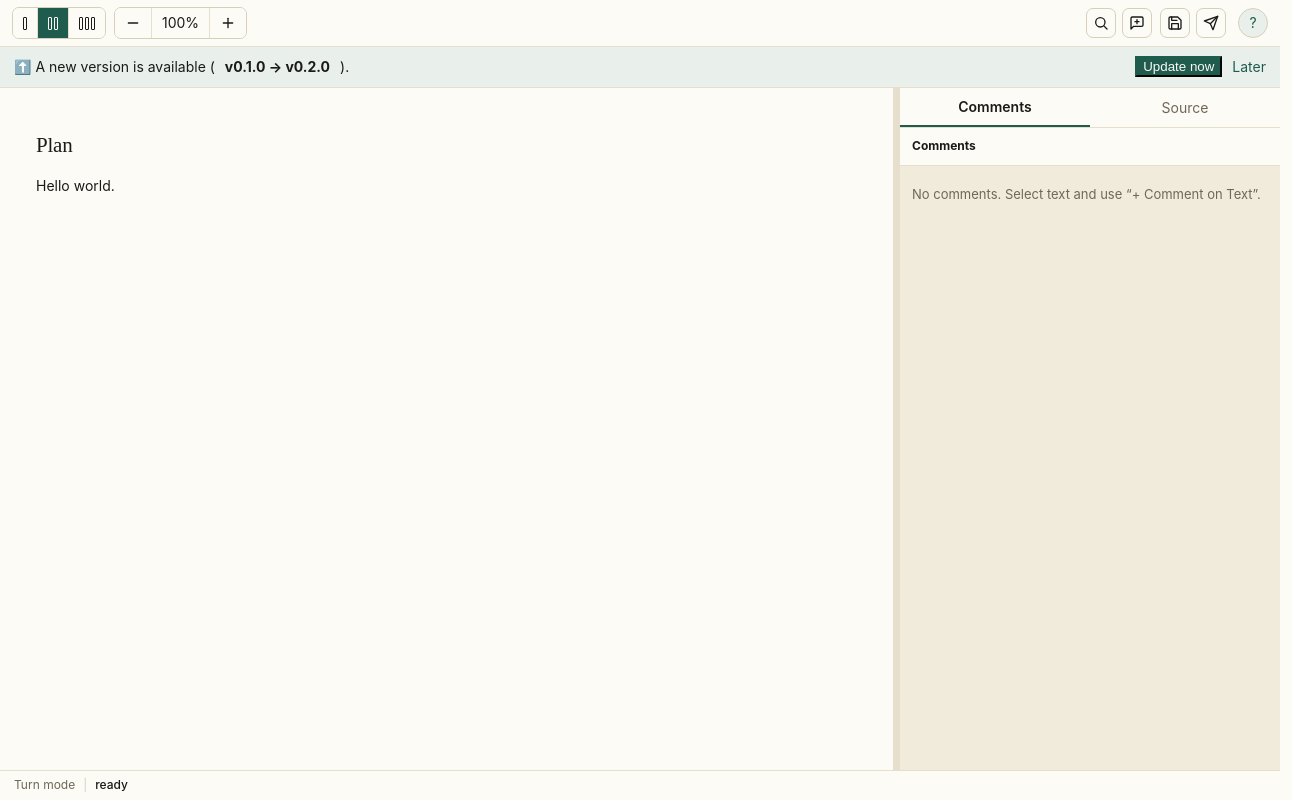
Test case: desktop update banner › offers Update now when a newer version is available, then prompts restart
What coordinates should you click on to do the following:
click the button "Update now"
I would click on:
 (1179, 67)
Its box is [1135,56,1222,77].
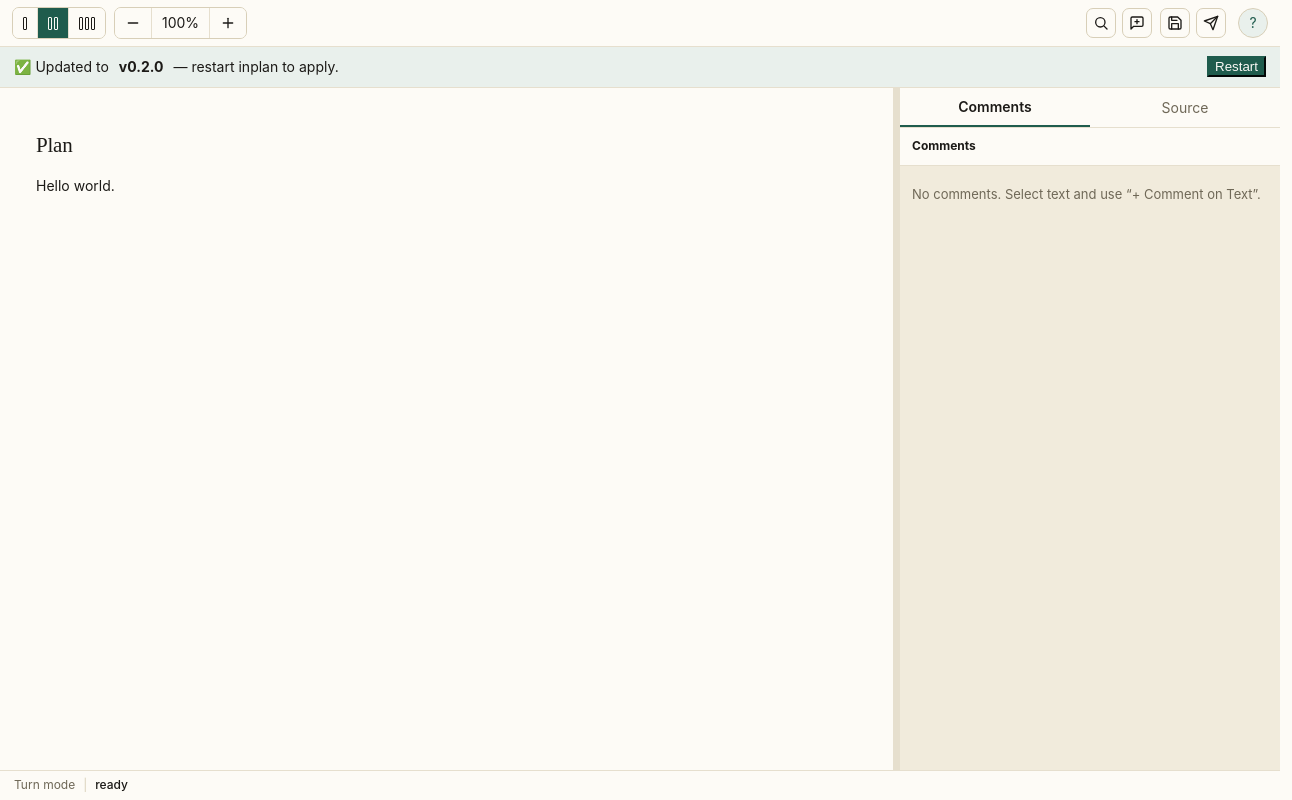
Check: the button "Restart" is shown, box [1207,56,1266,77]
